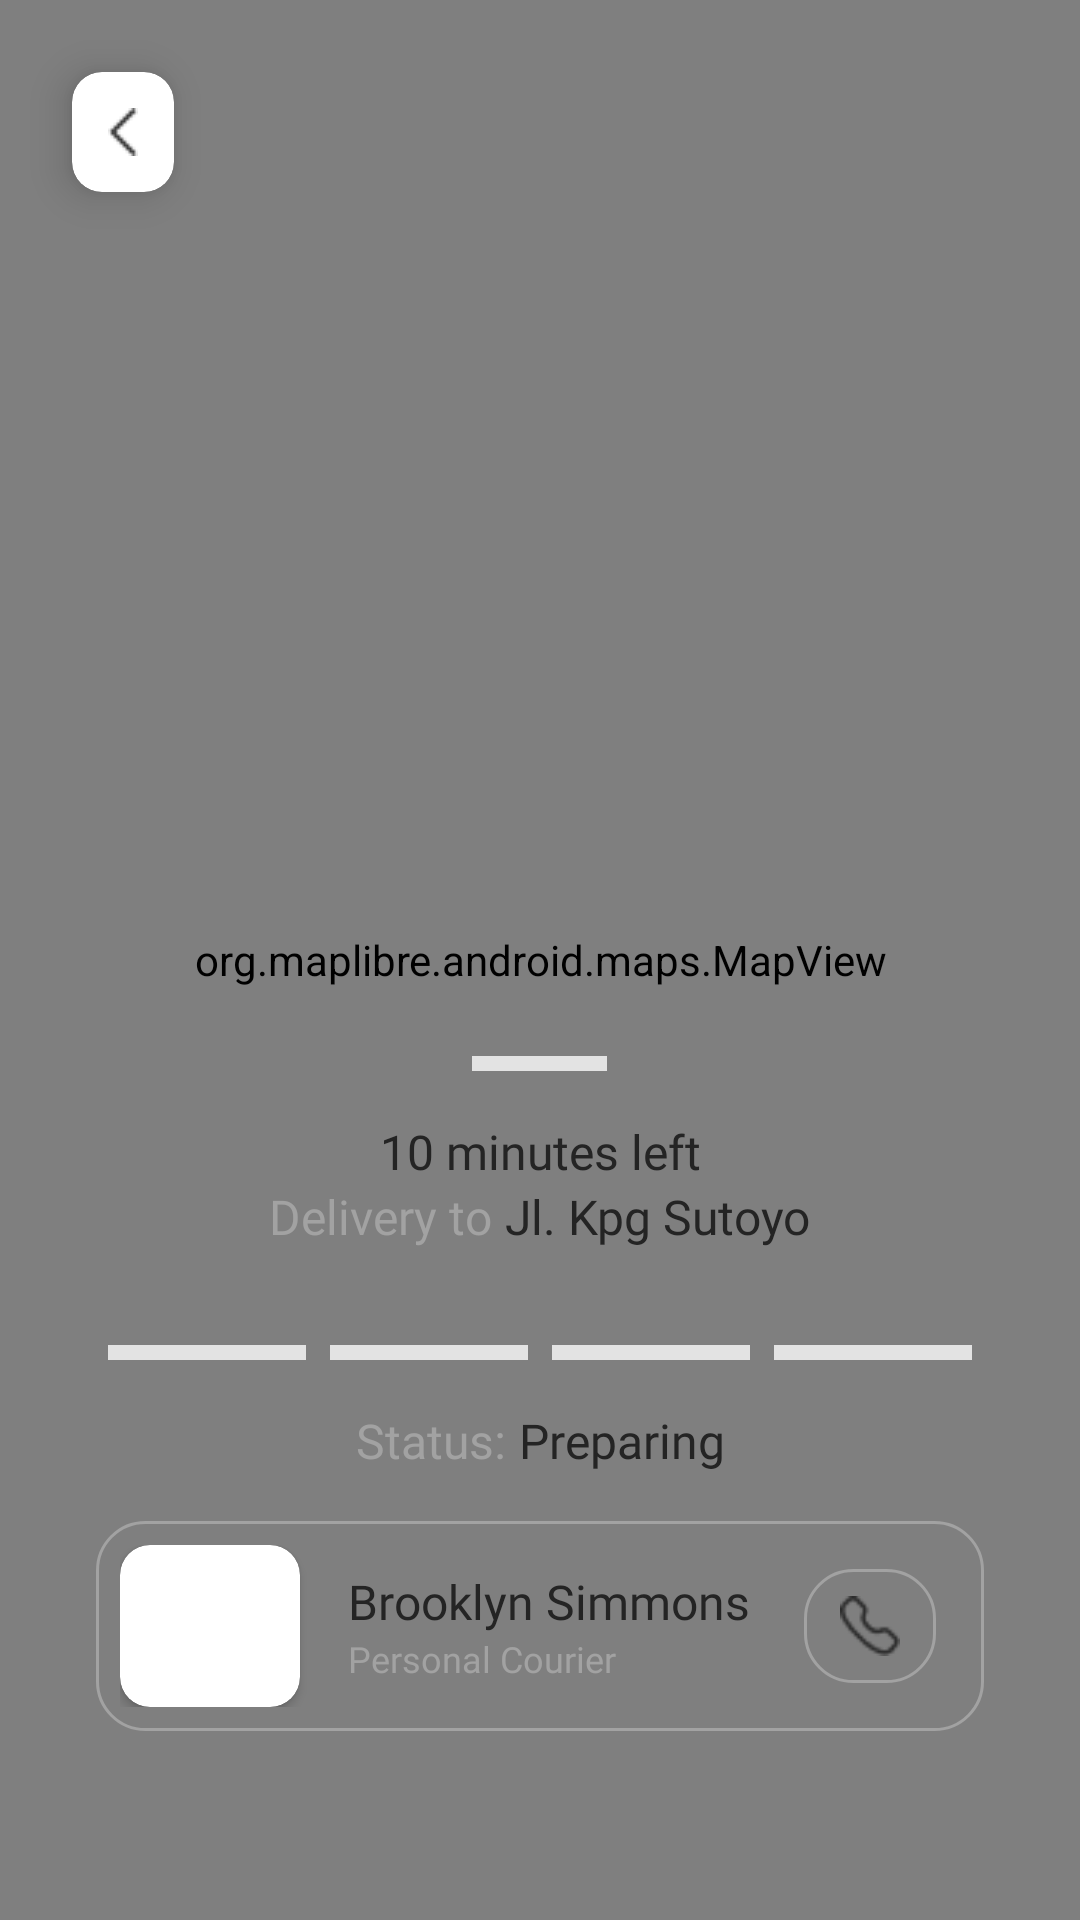

Locate icon controls on the screen. Image size 1080 x 1920, boxes as (x1, y1, x2, y2).
arrow left: (72, 72, 174, 192)
phone: (804, 1569, 936, 1683)
